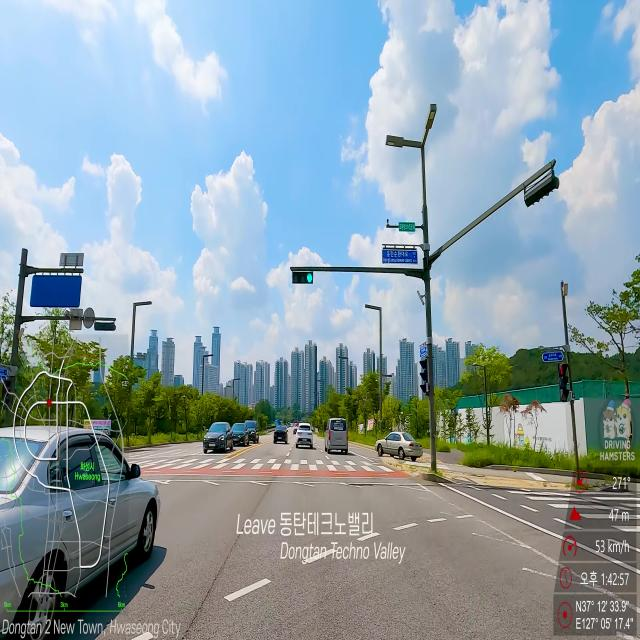Green Light: (306, 273, 312, 283)
